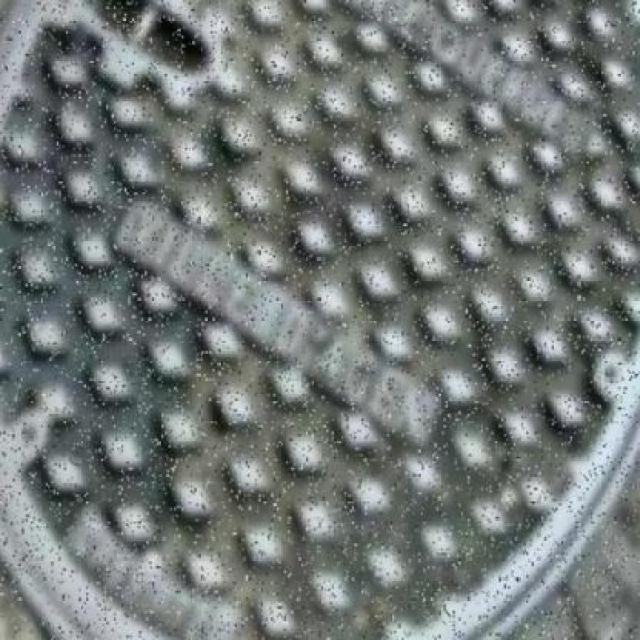Manhole: (3, 2, 636, 636)
